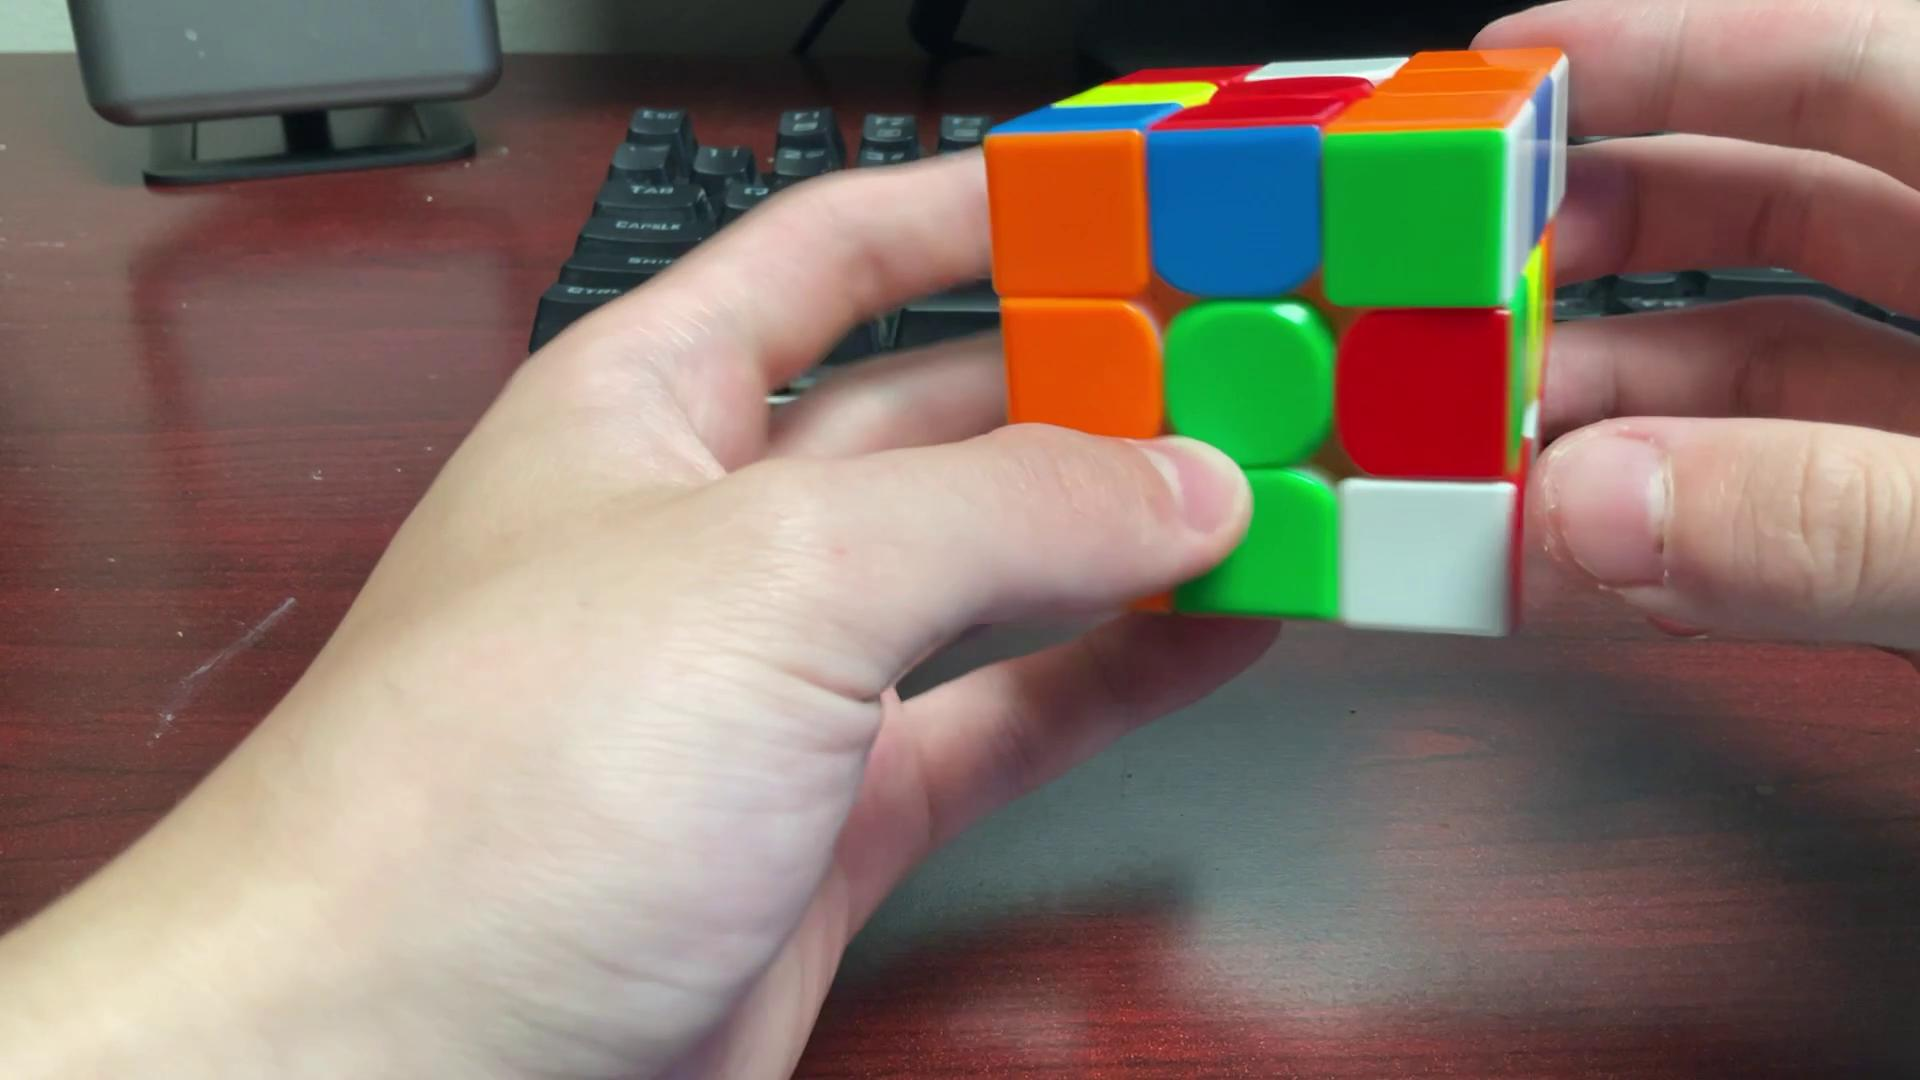Rubiks-Cube: (978, 29, 1572, 647)
